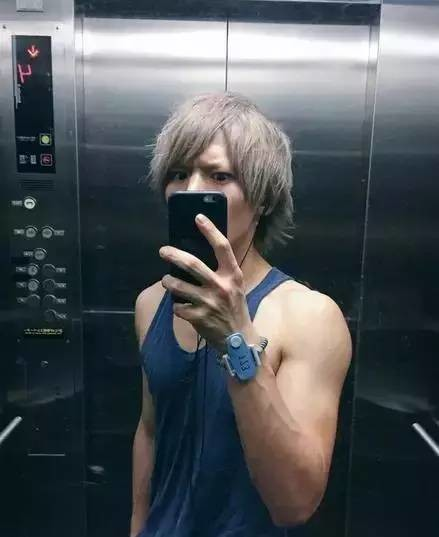face: (164, 129, 252, 257)
